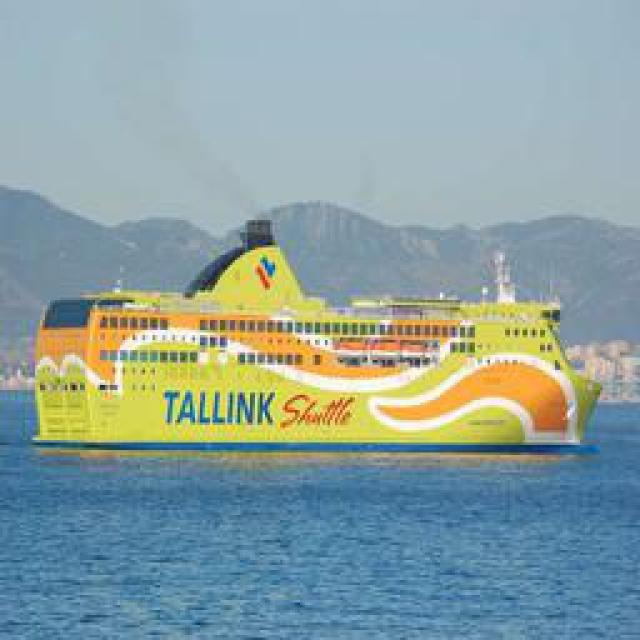Ship: (34, 220, 597, 455)
